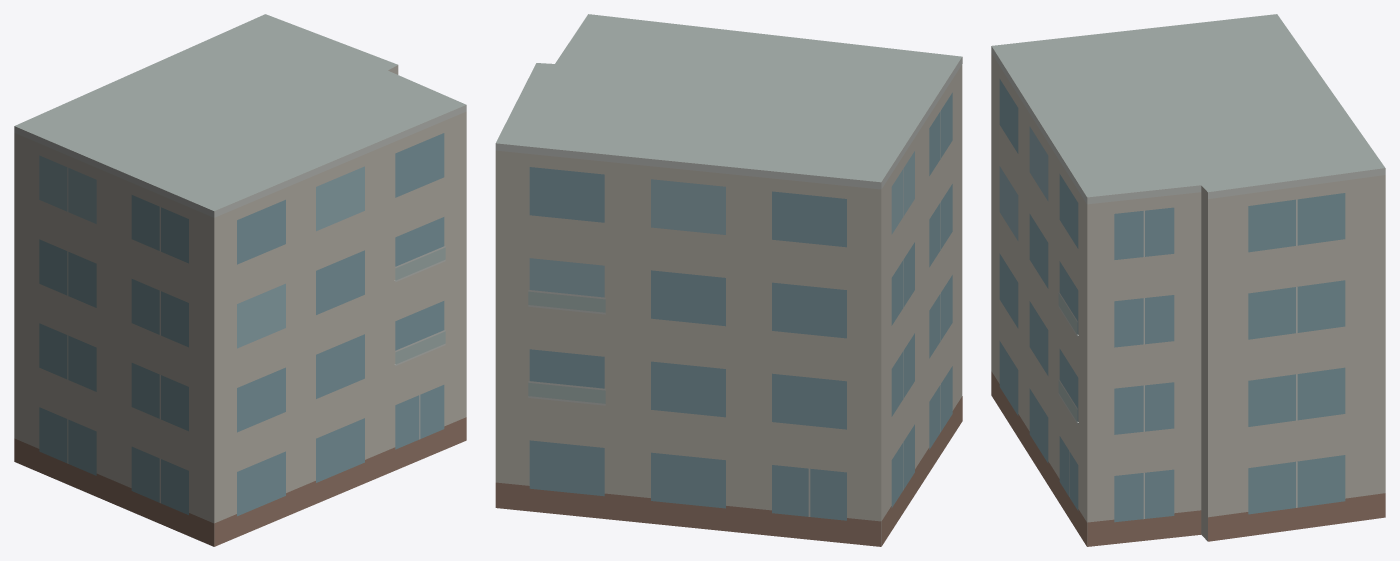
The model's file is survey-upis-32499175.glb.
The picture shows the model from 3 angles, left to right: view 1: azimuth 30°, elevation 25°; view 2: azimuth 150°, elevation 25°; view 3: azimuth 270°, elevation 25°; orthographic projection. The views are drawn at different scales.
Parts seen in each view (by area): view 1: survey-upis-32499175.tmp; view 2: survey-upis-32499175.tmp; view 3: survey-upis-32499175.tmp.
Part boxes in pixels (x1,y1,x2,y2): survey-upis-32499175.tmp: [14, 14, 466, 546]; survey-upis-32499175.tmp: [495, 14, 962, 546]; survey-upis-32499175.tmp: [991, 14, 1385, 546].
Bounding box in the file's own units: 13.86 × 12.3 × 12.58.
